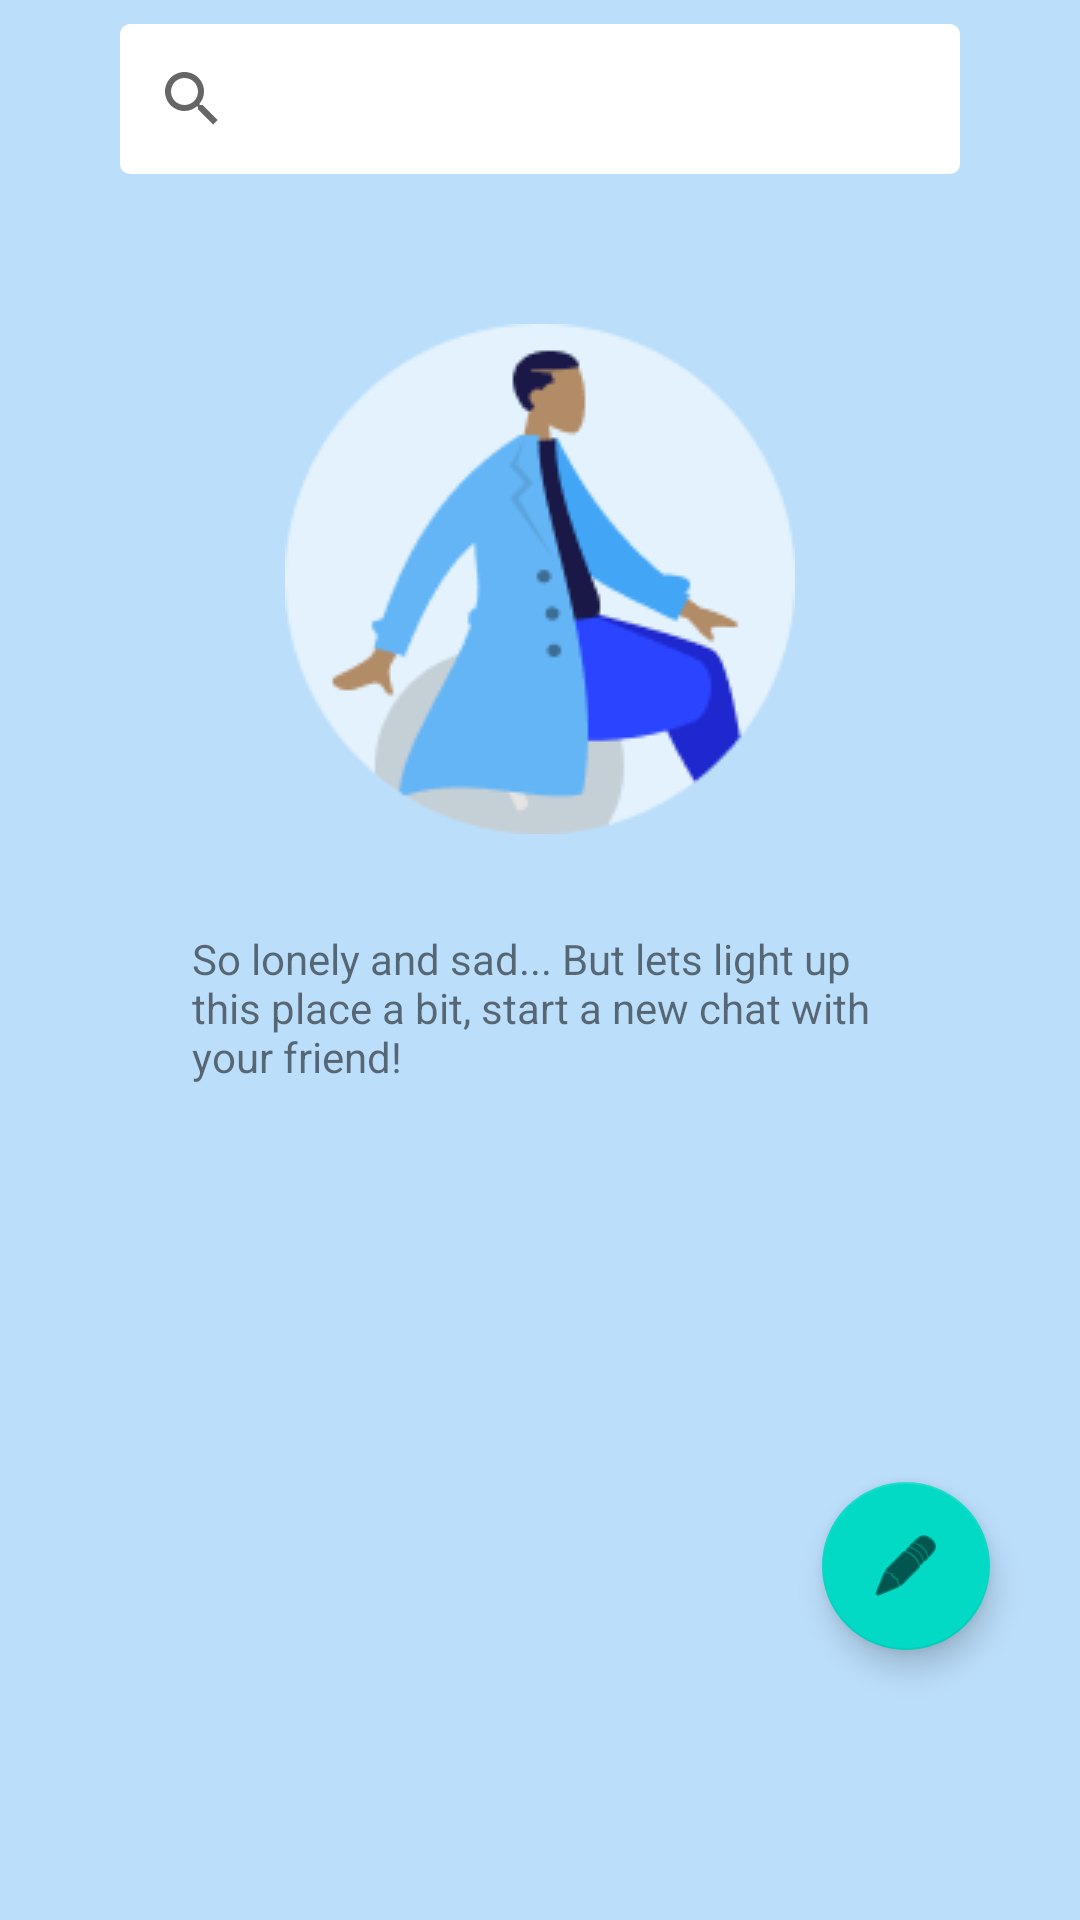

Screen size 1080 × 1920. Icon name, then its box in pixels as (x1, y1, x2, y2):
edit: (822, 1482, 990, 1650)
